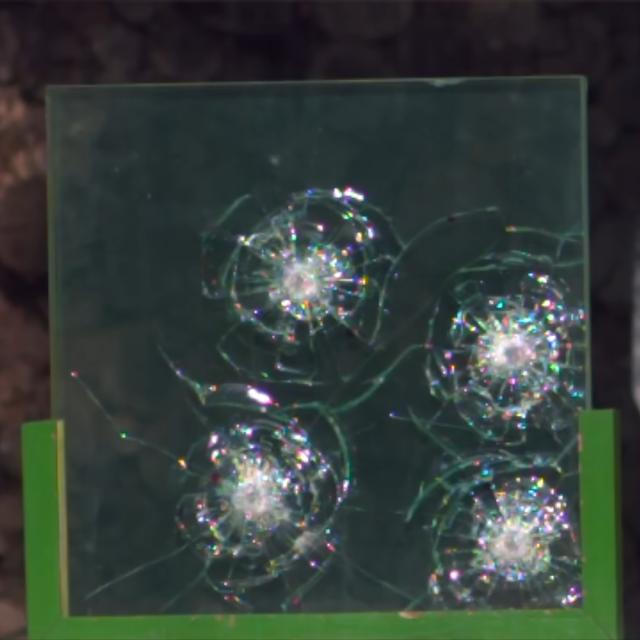bullets: (163, 413, 337, 577), (433, 268, 595, 442), (206, 194, 384, 343), (450, 492, 574, 604)
